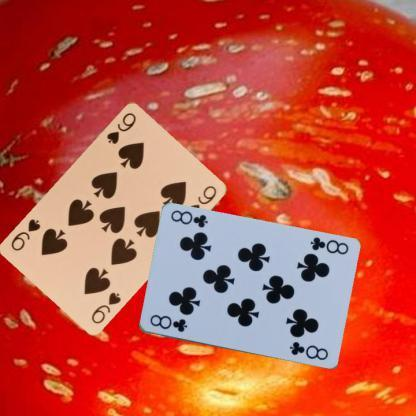8c: (146, 312, 188, 334), (308, 234, 350, 256)
9s: (88, 289, 122, 325), (105, 110, 138, 146)
